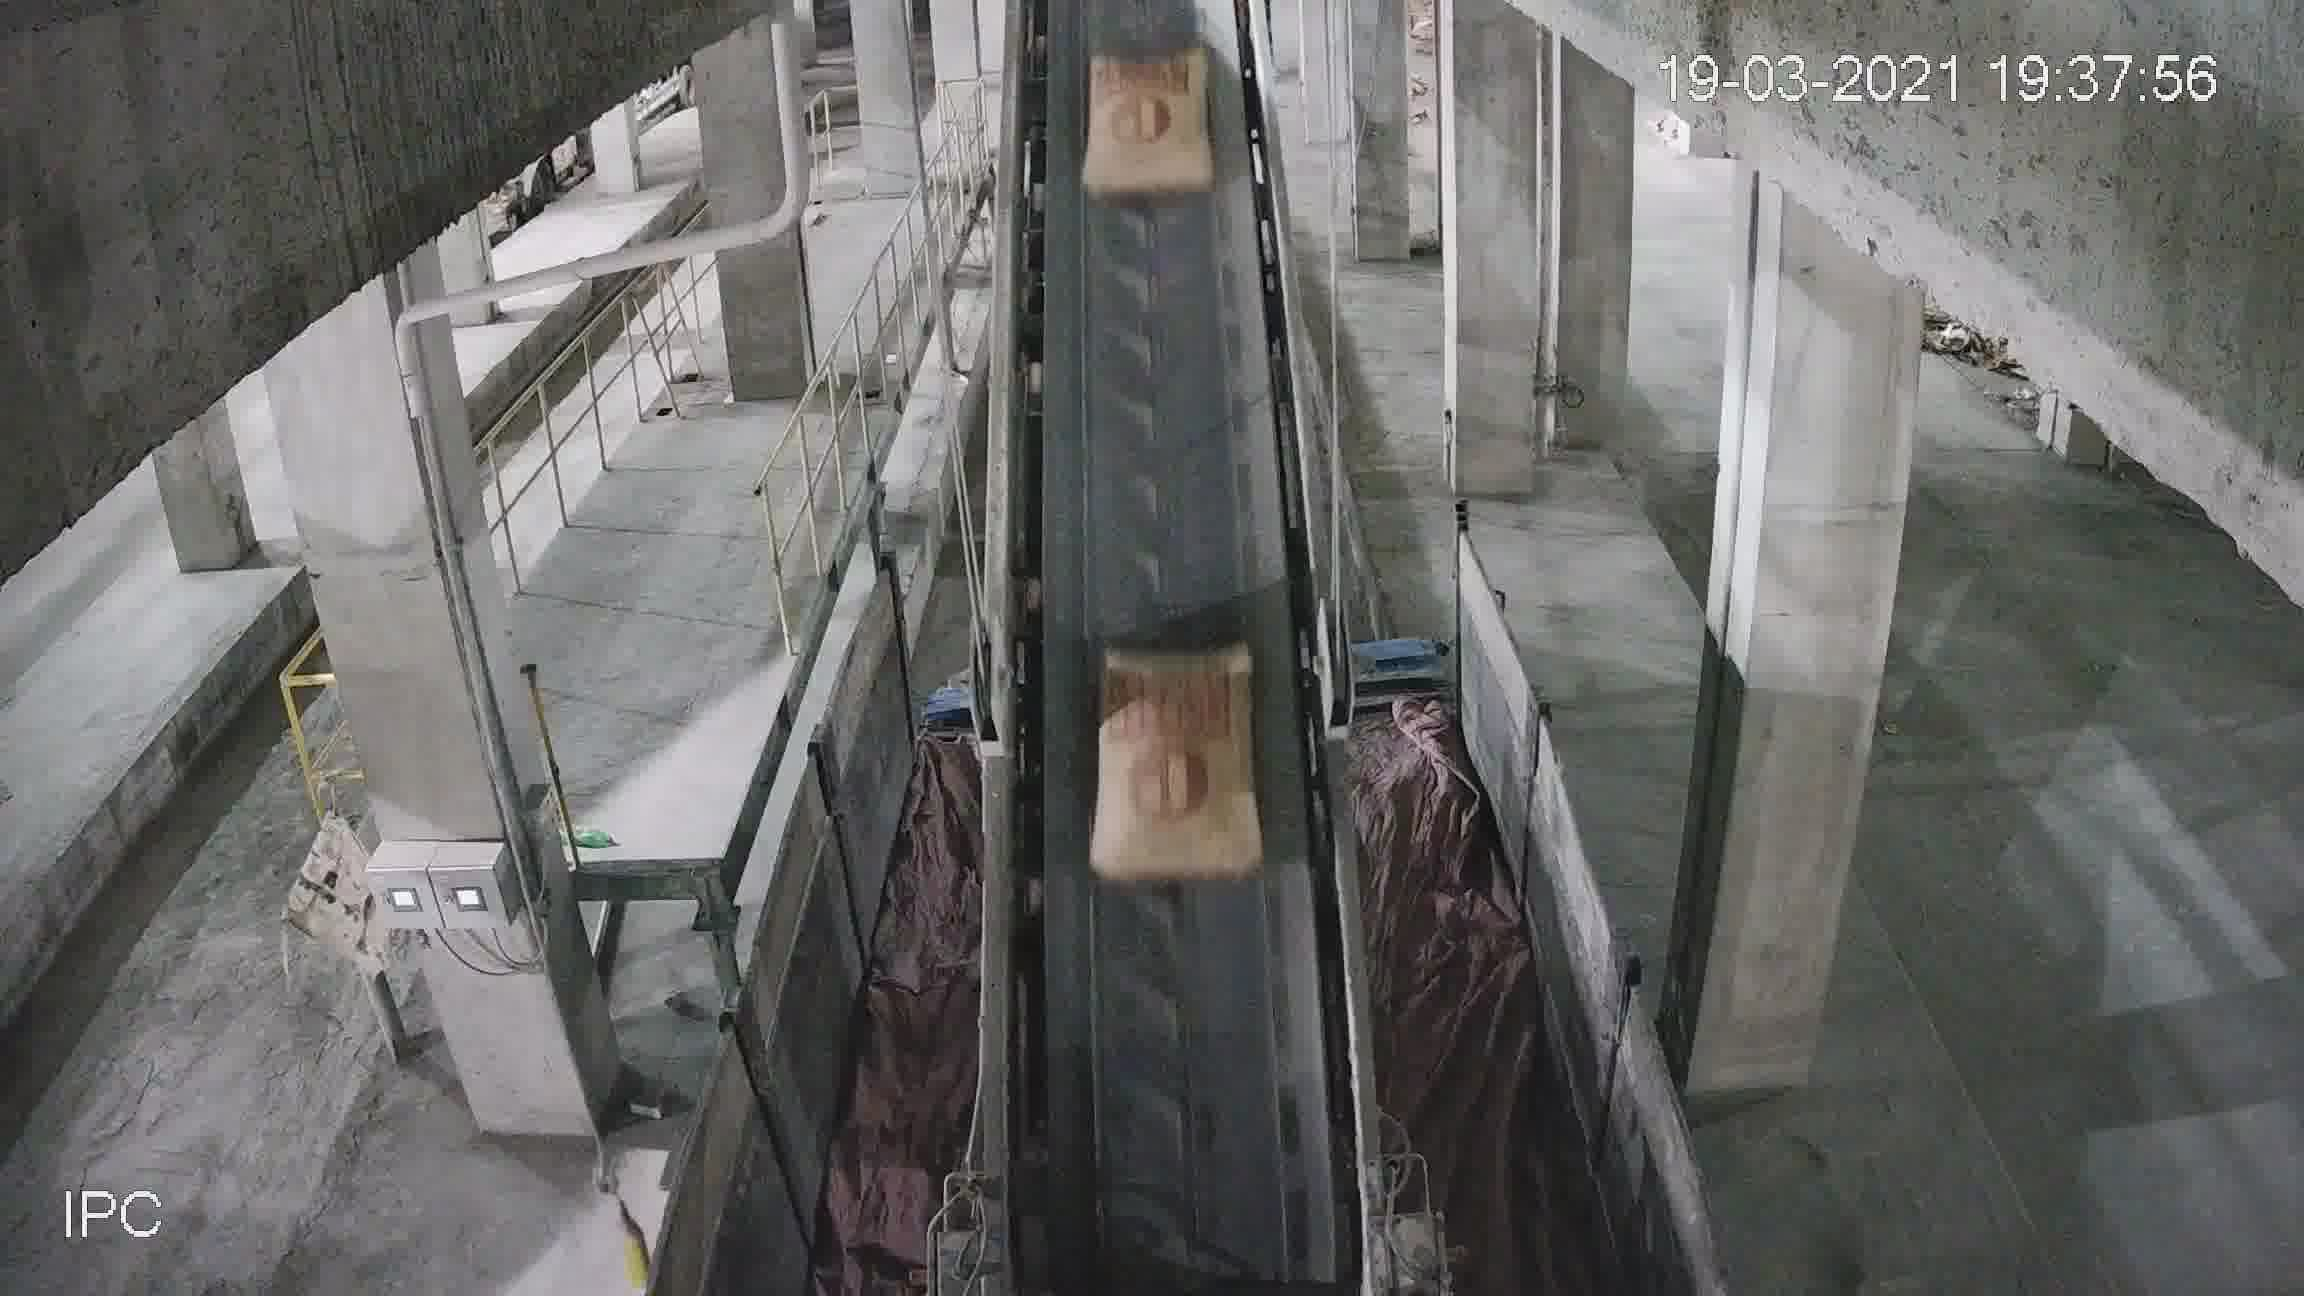bag: (1086, 649, 1268, 892), (1078, 49, 1215, 196)
belt: (983, 27, 1342, 1119)
